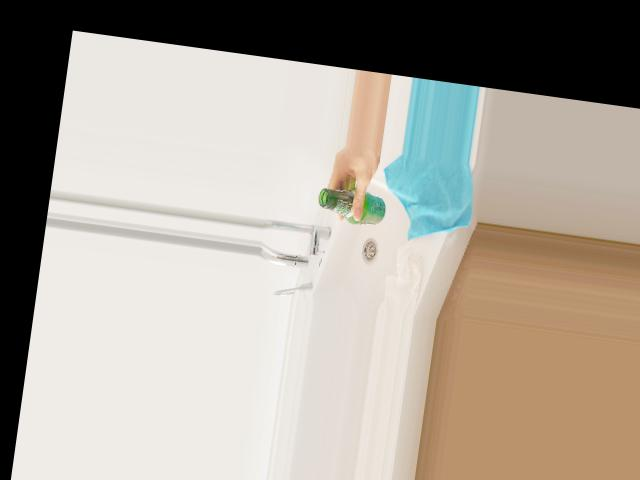beer: (316, 182, 388, 228)
